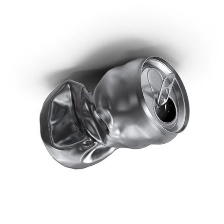can: (37, 52, 198, 171)
